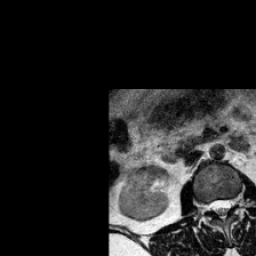CCS_normal: (217, 188, 224, 227)
LFS_normal: (232, 189, 238, 213)
LLS_normal: (224, 189, 232, 219)
RFS_normal: (203, 192, 210, 218)
RLS_normal: (210, 192, 217, 218)
